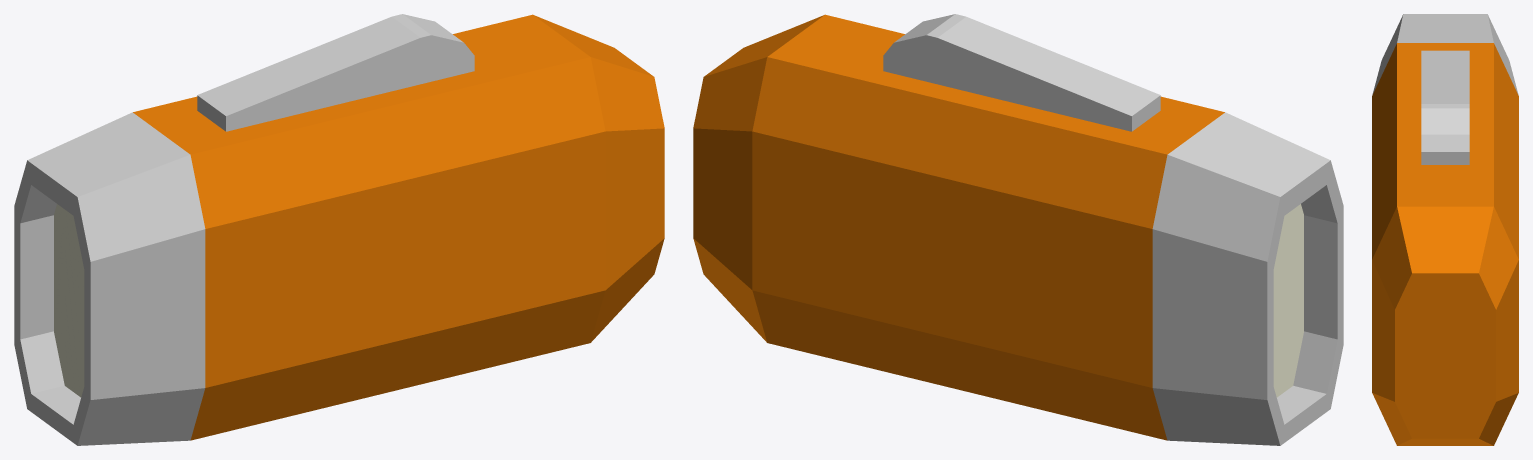
Rendered from CrankFlashlight.fbx.
3 renders of one model, left to right at view 1: azimuth 30°, elevation 25°; view 2: azimuth 150°, elevation 25°; view 3: azimuth 270°, elevation 25°, orthographic. The views are drawn at different scales.
Parts seen in each view (by area): view 1: CrankFlashlight; view 2: CrankFlashlight; view 3: CrankFlashlight.
Boxes of the visible parts, x1,y1,x2,y2 form: CrankFlashlight: [14, 14, 664, 445]; CrankFlashlight: [693, 14, 1343, 445]; CrankFlashlight: [1372, 14, 1518, 445].
Bounding box in the file's own units: 0.1338 × 0.0731 × 0.0349.
